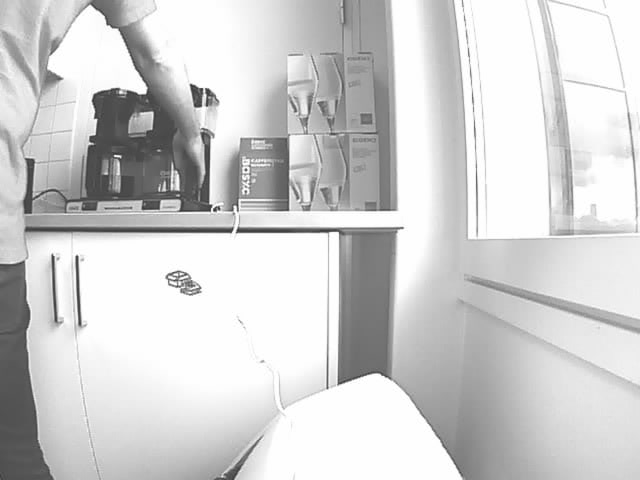not empty coffee: (85, 143, 139, 198)
